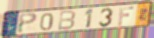0: (39, 12, 56, 31)
1: (83, 8, 95, 30)
3: (98, 7, 114, 27)
B: (57, 10, 77, 32)
F: (117, 6, 135, 26)
P: (17, 12, 39, 34)
